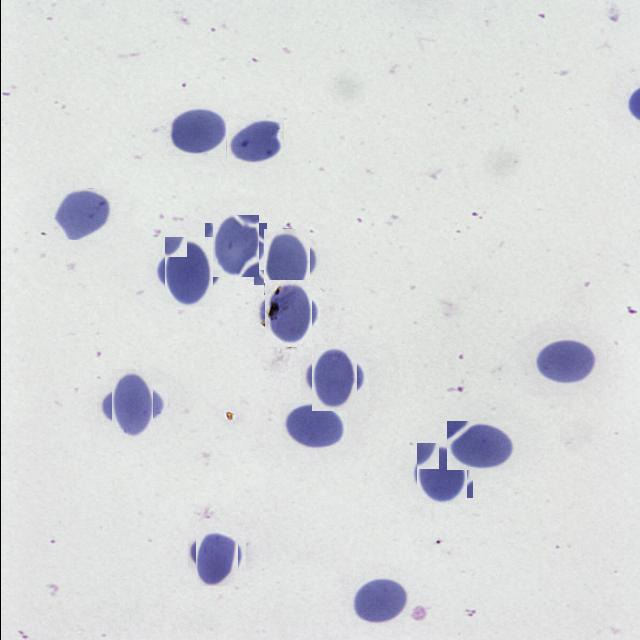red blood cell: (158, 242, 218, 302), (446, 421, 516, 470), (104, 376, 160, 434), (50, 188, 112, 240), (279, 402, 346, 450), (258, 234, 315, 290), (259, 286, 316, 342), (413, 445, 469, 501), (306, 350, 362, 406), (532, 338, 598, 385), (166, 107, 229, 156), (208, 219, 262, 274), (349, 578, 410, 624), (225, 117, 283, 163), (191, 532, 241, 582)
